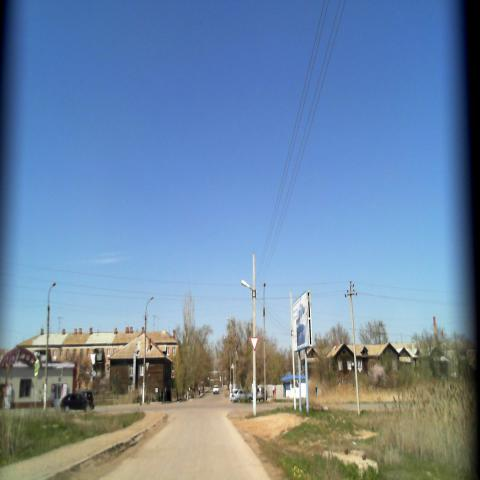2_4: (251, 336, 259, 353)
